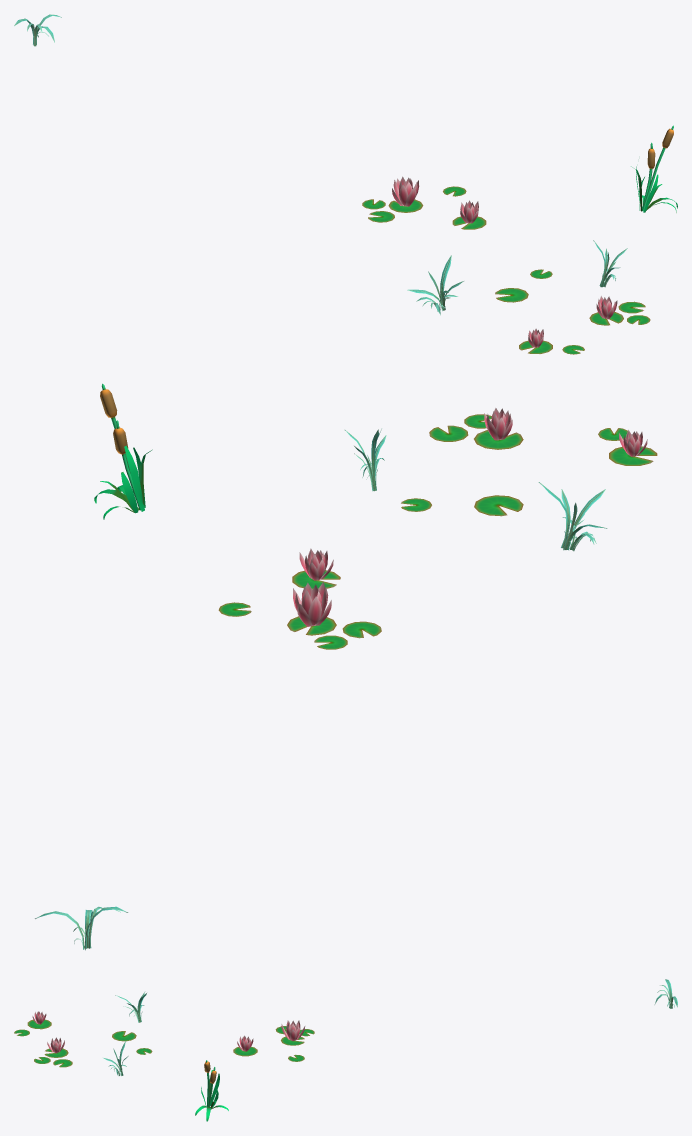
The model's file is Nenufar_Atrezzo_Desierto.fbx.
3 renders of one model, top to bottom at view 1: azimuth 30°, elevation 25°; view 2: azimuth 150°, elevation 25°; view 3: azimuth 270°, elevation 25°, orthographic. The views are drawn at different scales.
Parts seen in each view (by area): view 1: Juncos_2.003, Planta_01.016, Enufar_Flor.005; view 2: Juncos_2.003, Enufar_Flor.005, Planta_01.016; view 3: Juncos_2.003, Enufar_Flor.005, Planta_02.
Boxes of the visible parts, box(x1,y1,x2,y2) form: Juncos_2.003: box(631, 125, 677, 212); Planta_01.016: box(407, 255, 463, 315); Enufar_Flor.005: box(392, 176, 419, 206); Juncos_2.003: box(94, 383, 152, 519); Enufar_Flor.005: box(293, 582, 331, 626); Planta_01.016: box(538, 482, 607, 551); Juncos_2.003: box(195, 1060, 228, 1121); Enufar_Flor.005: box(281, 1020, 305, 1041); Planta_02: box(654, 979, 677, 1008).
Bounding box in the file's own units: 5.67 × 1.37 × 13.29.
